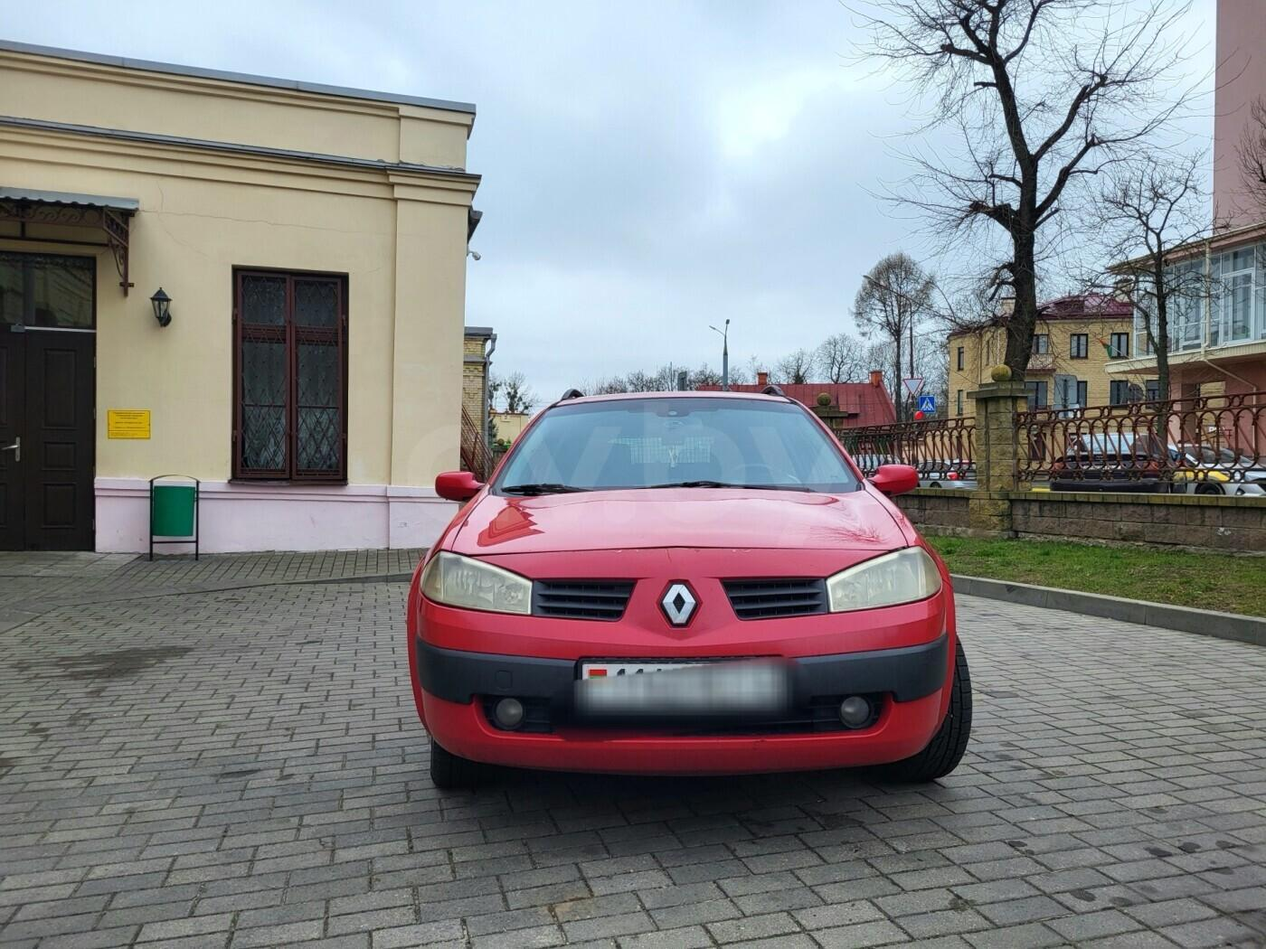Megane_2002-2006: (408, 387, 988, 797)
